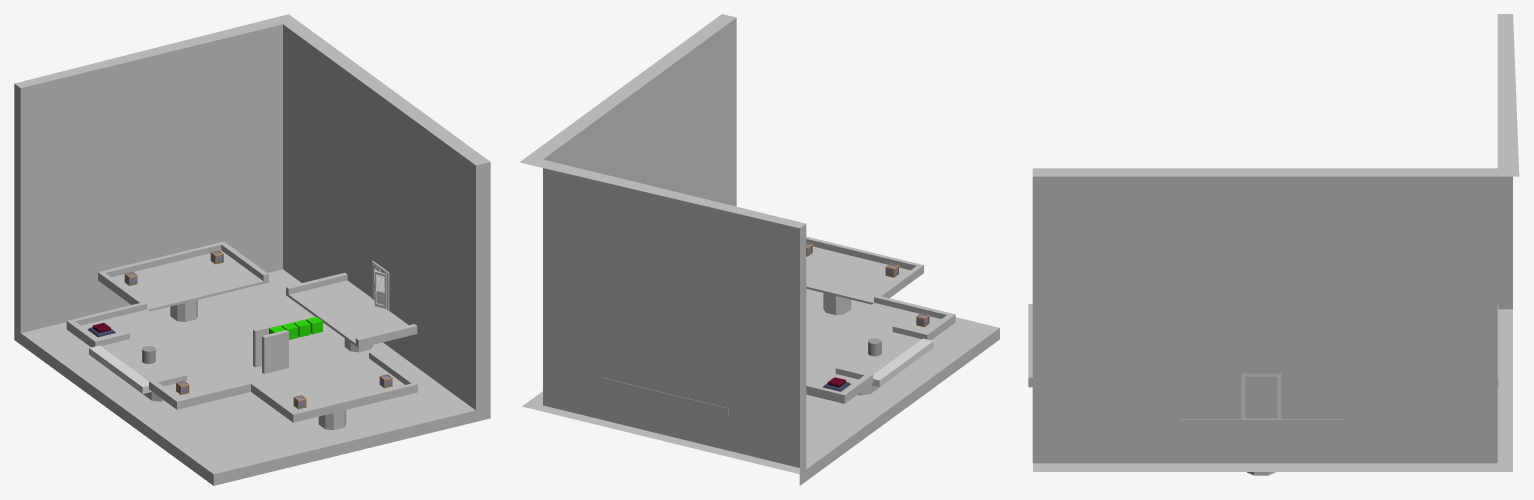
The model's file is Level3v4.fbx.
3 views of the same model, side by side, from view 1: azimuth 30°, elevation 25°; view 2: azimuth 150°, elevation 25°; view 3: azimuth 270°, elevation 25° (orthographic). The views are drawn at different scales.
Visible parts, largest first — view 1: wallLeft, polySurface13, voidWall, platform1, platform, platform3, platform2, edge4, edge14, HoldGuide1, doorEntrance, edge12 (+7 smaller); view 2: wallLeft, polySurface13, voidWall, platform1, platform3, edge14, doorEntrance, edge4, edge12, edge5; view 3: polySurface13, voidWall, wallLeft, platform2, door.
Boxes of the visible parts, left/top/right/bottom form: wallLeft: left=14, top=14, right=288, bottom=332; polySurface13: left=283, top=14, right=490, bottom=410; voidWall: left=14, top=269, right=490, bottom=485; platform1: left=81, top=309, right=246, bottom=401; platform: left=111, top=250, right=263, bottom=321; platform3: left=259, top=358, right=404, bottom=430; platform2: left=288, top=280, right=408, bottom=352; edge4: left=291, top=382, right=417, bottom=422; edge14: left=98, top=241, right=225, bottom=281; HoldGuide1: left=262, top=330, right=288, bottom=373; doorEntrance: left=89, top=345, right=151, bottom=393; edge12: left=180, top=382, right=250, bottom=408; wallLeft: left=520, top=159, right=806, bottom=473; polySurface13: left=519, top=14, right=736, bottom=206; voidWall: left=522, top=289, right=999, bottom=485; platform1: left=806, top=303, right=940, bottom=395; platform3: left=806, top=246, right=910, bottom=315; edge14: left=602, top=377, right=728, bottom=416; doorEntrance: left=871, top=338, right=933, bottom=387; edge4: left=806, top=236, right=923, bottom=274; edge12: left=878, top=296, right=949, bottom=318; edge5: left=874, top=266, right=921, bottom=303; polySurface13: left=1032, top=168, right=1518, bottom=463; voidWall: left=1033, top=309, right=1512, bottom=471; wallLeft: left=1497, top=14, right=1519, bottom=309; platform2: left=1180, top=419, right=1341, bottom=475; door: left=1241, top=373, right=1281, bottom=419.
Size of the model in its own units: 32.45 by 28.96 by 41.05.
